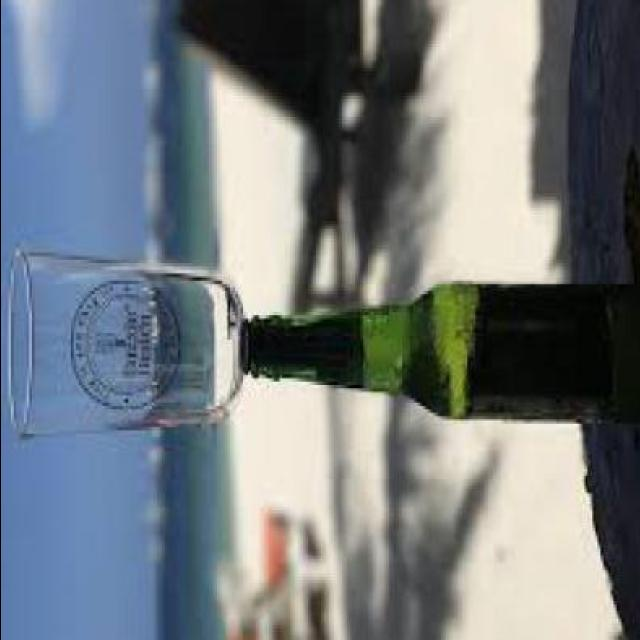kaca: (237, 290, 640, 420), (5, 255, 239, 443)
